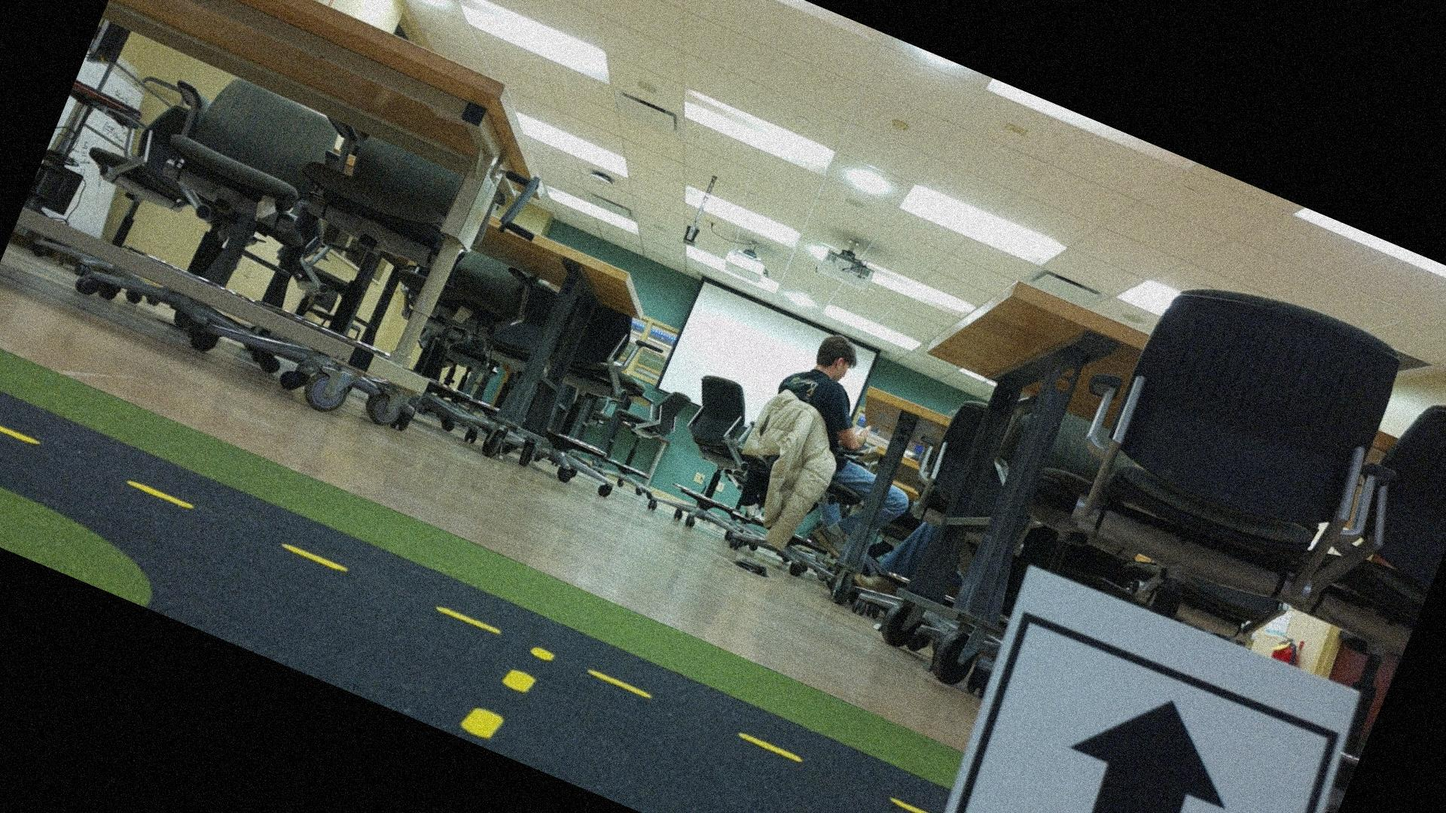gostraight: (905, 557, 1373, 812)
yellowline: (0, 400, 942, 812), (459, 626, 554, 751)
